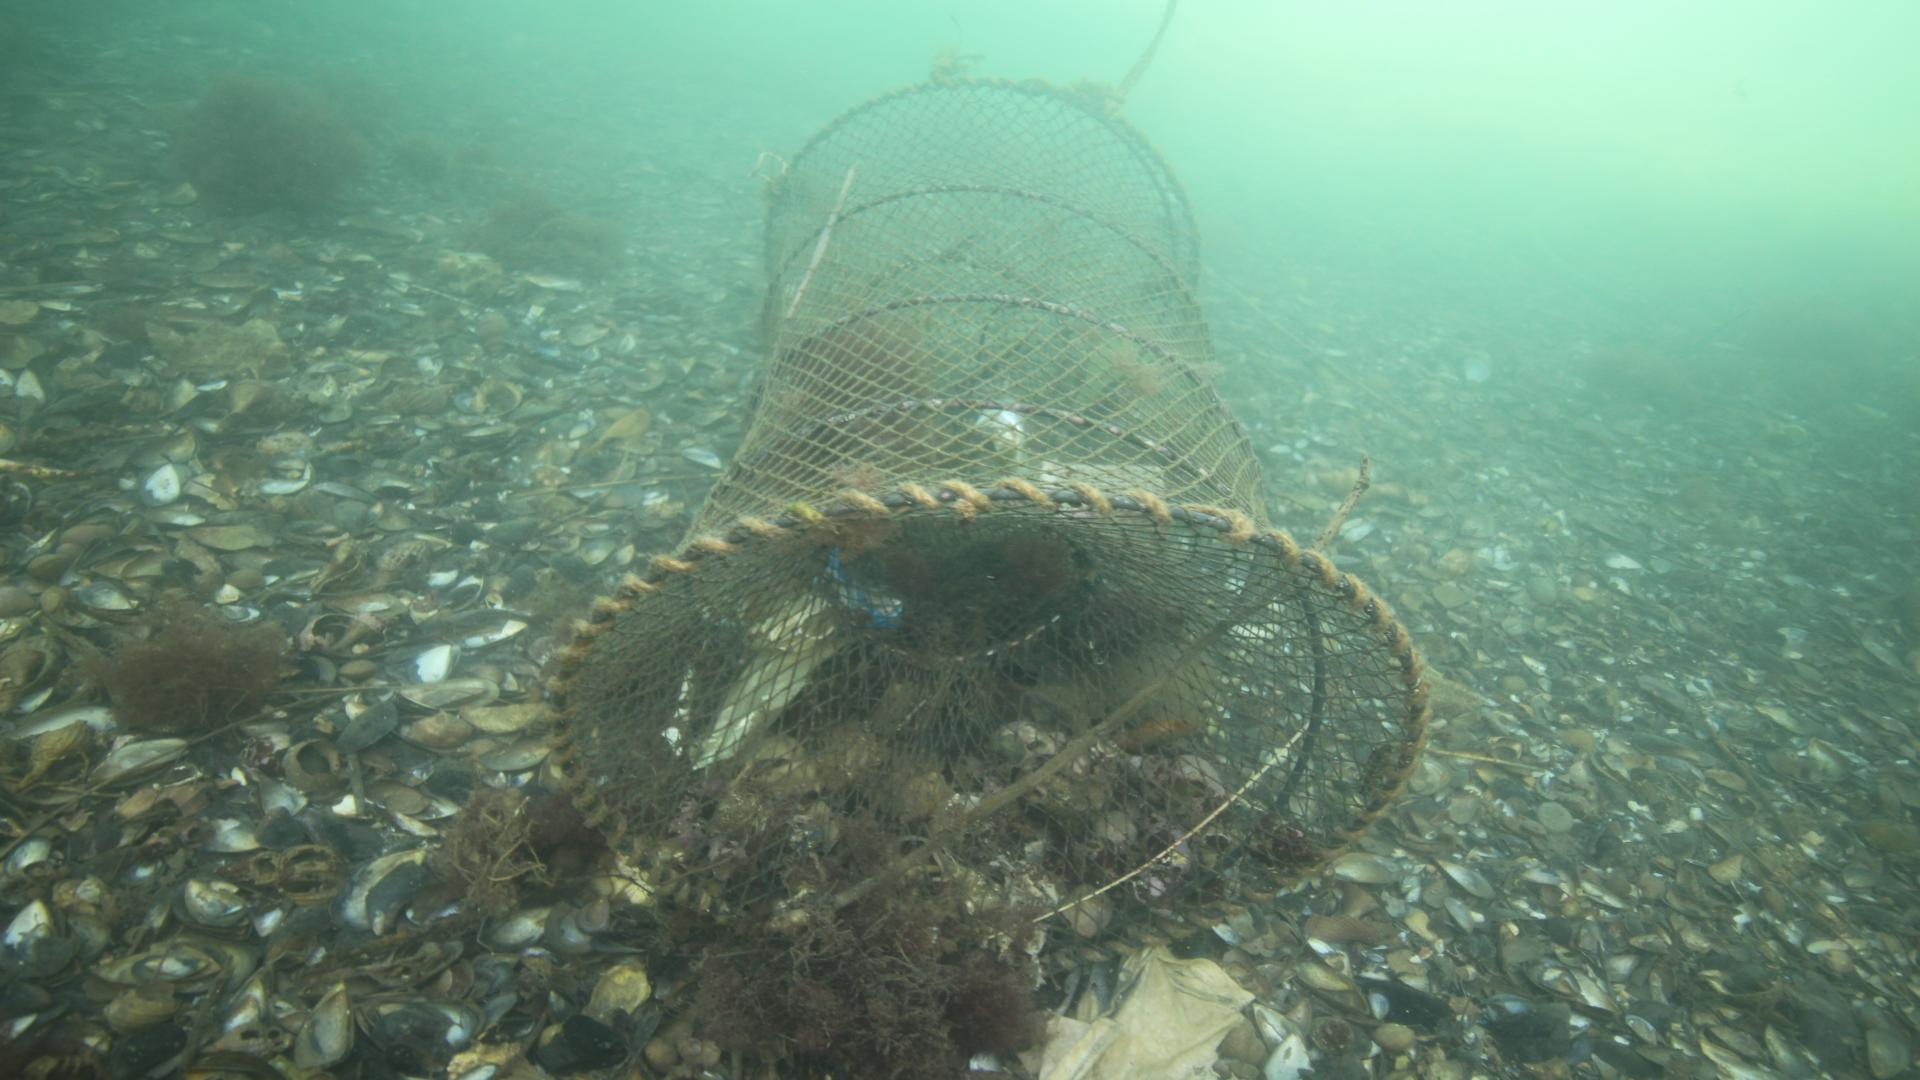rope: (1101, 0, 1184, 98)
spring fish trap: (543, 71, 1429, 978)
